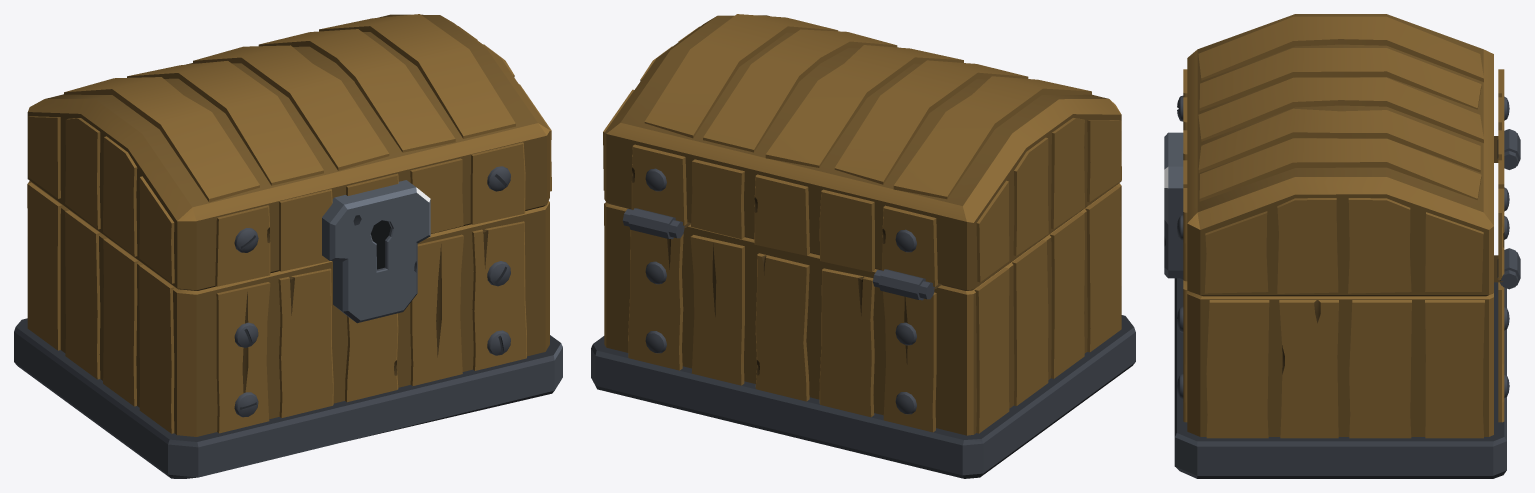
File: Icon_Box_BOX_TUTORIAL_G1_01.fbx
3 views of the same model, side by side, from view 1: azimuth 30°, elevation 25°; view 2: azimuth 150°, elevation 25°; view 3: azimuth 270°, elevation 25° (orthographic). The views are drawn at different scales.
Visible parts, largest first — view 1: Icon_Box_BOXNORMAL_G1_01 (×2), Object005; view 2: Icon_Box_BOXNORMAL_G1_01 (×2); view 3: Icon_Box_BOXNORMAL_G1_01 (×2), Object005.
Part boxes in pixels (left/top/right/bottom): Icon_Box_BOXNORMAL_G1_01 (×2): left=14, top=14, right=562, bottom=478; Object005: left=322, top=180, right=430, bottom=323; Icon_Box_BOXNORMAL_G1_01 (×2): left=591, top=14, right=1135, bottom=478; Icon_Box_BOXNORMAL_G1_01 (×2): left=1174, top=14, right=1520, bottom=478; Object005: left=1164, top=132, right=1183, bottom=278.
Size of the model in its own units: 176 by 130 by 142.
1 material, 1 textured.
